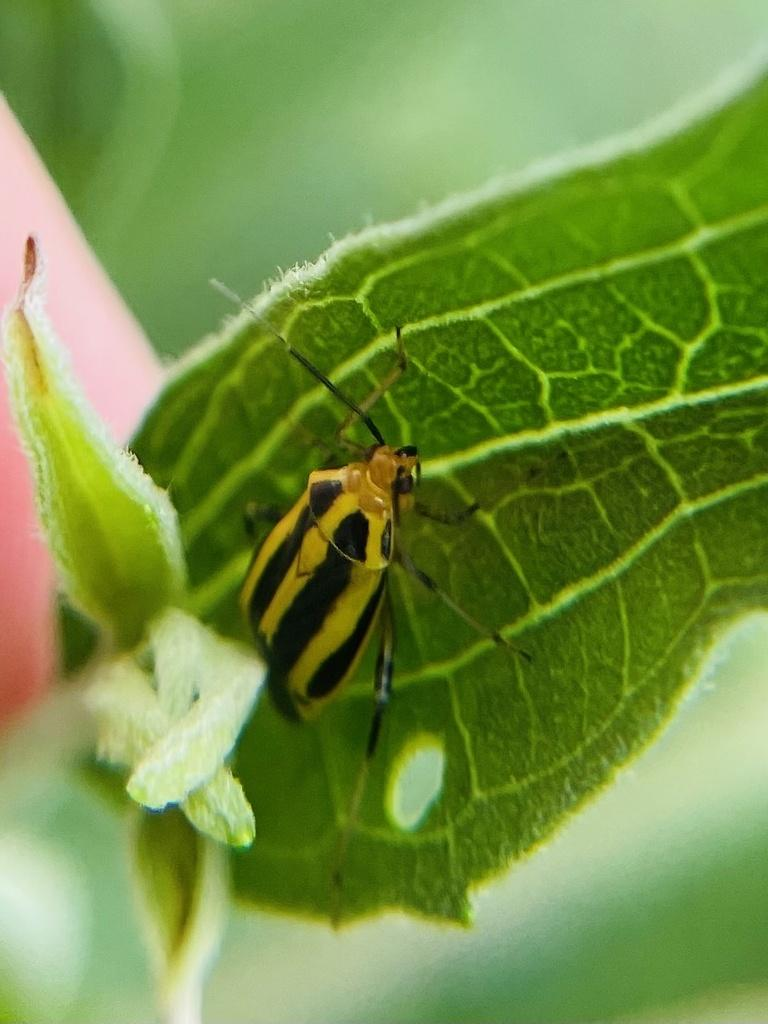plant_bugs: (174, 236, 586, 949)
